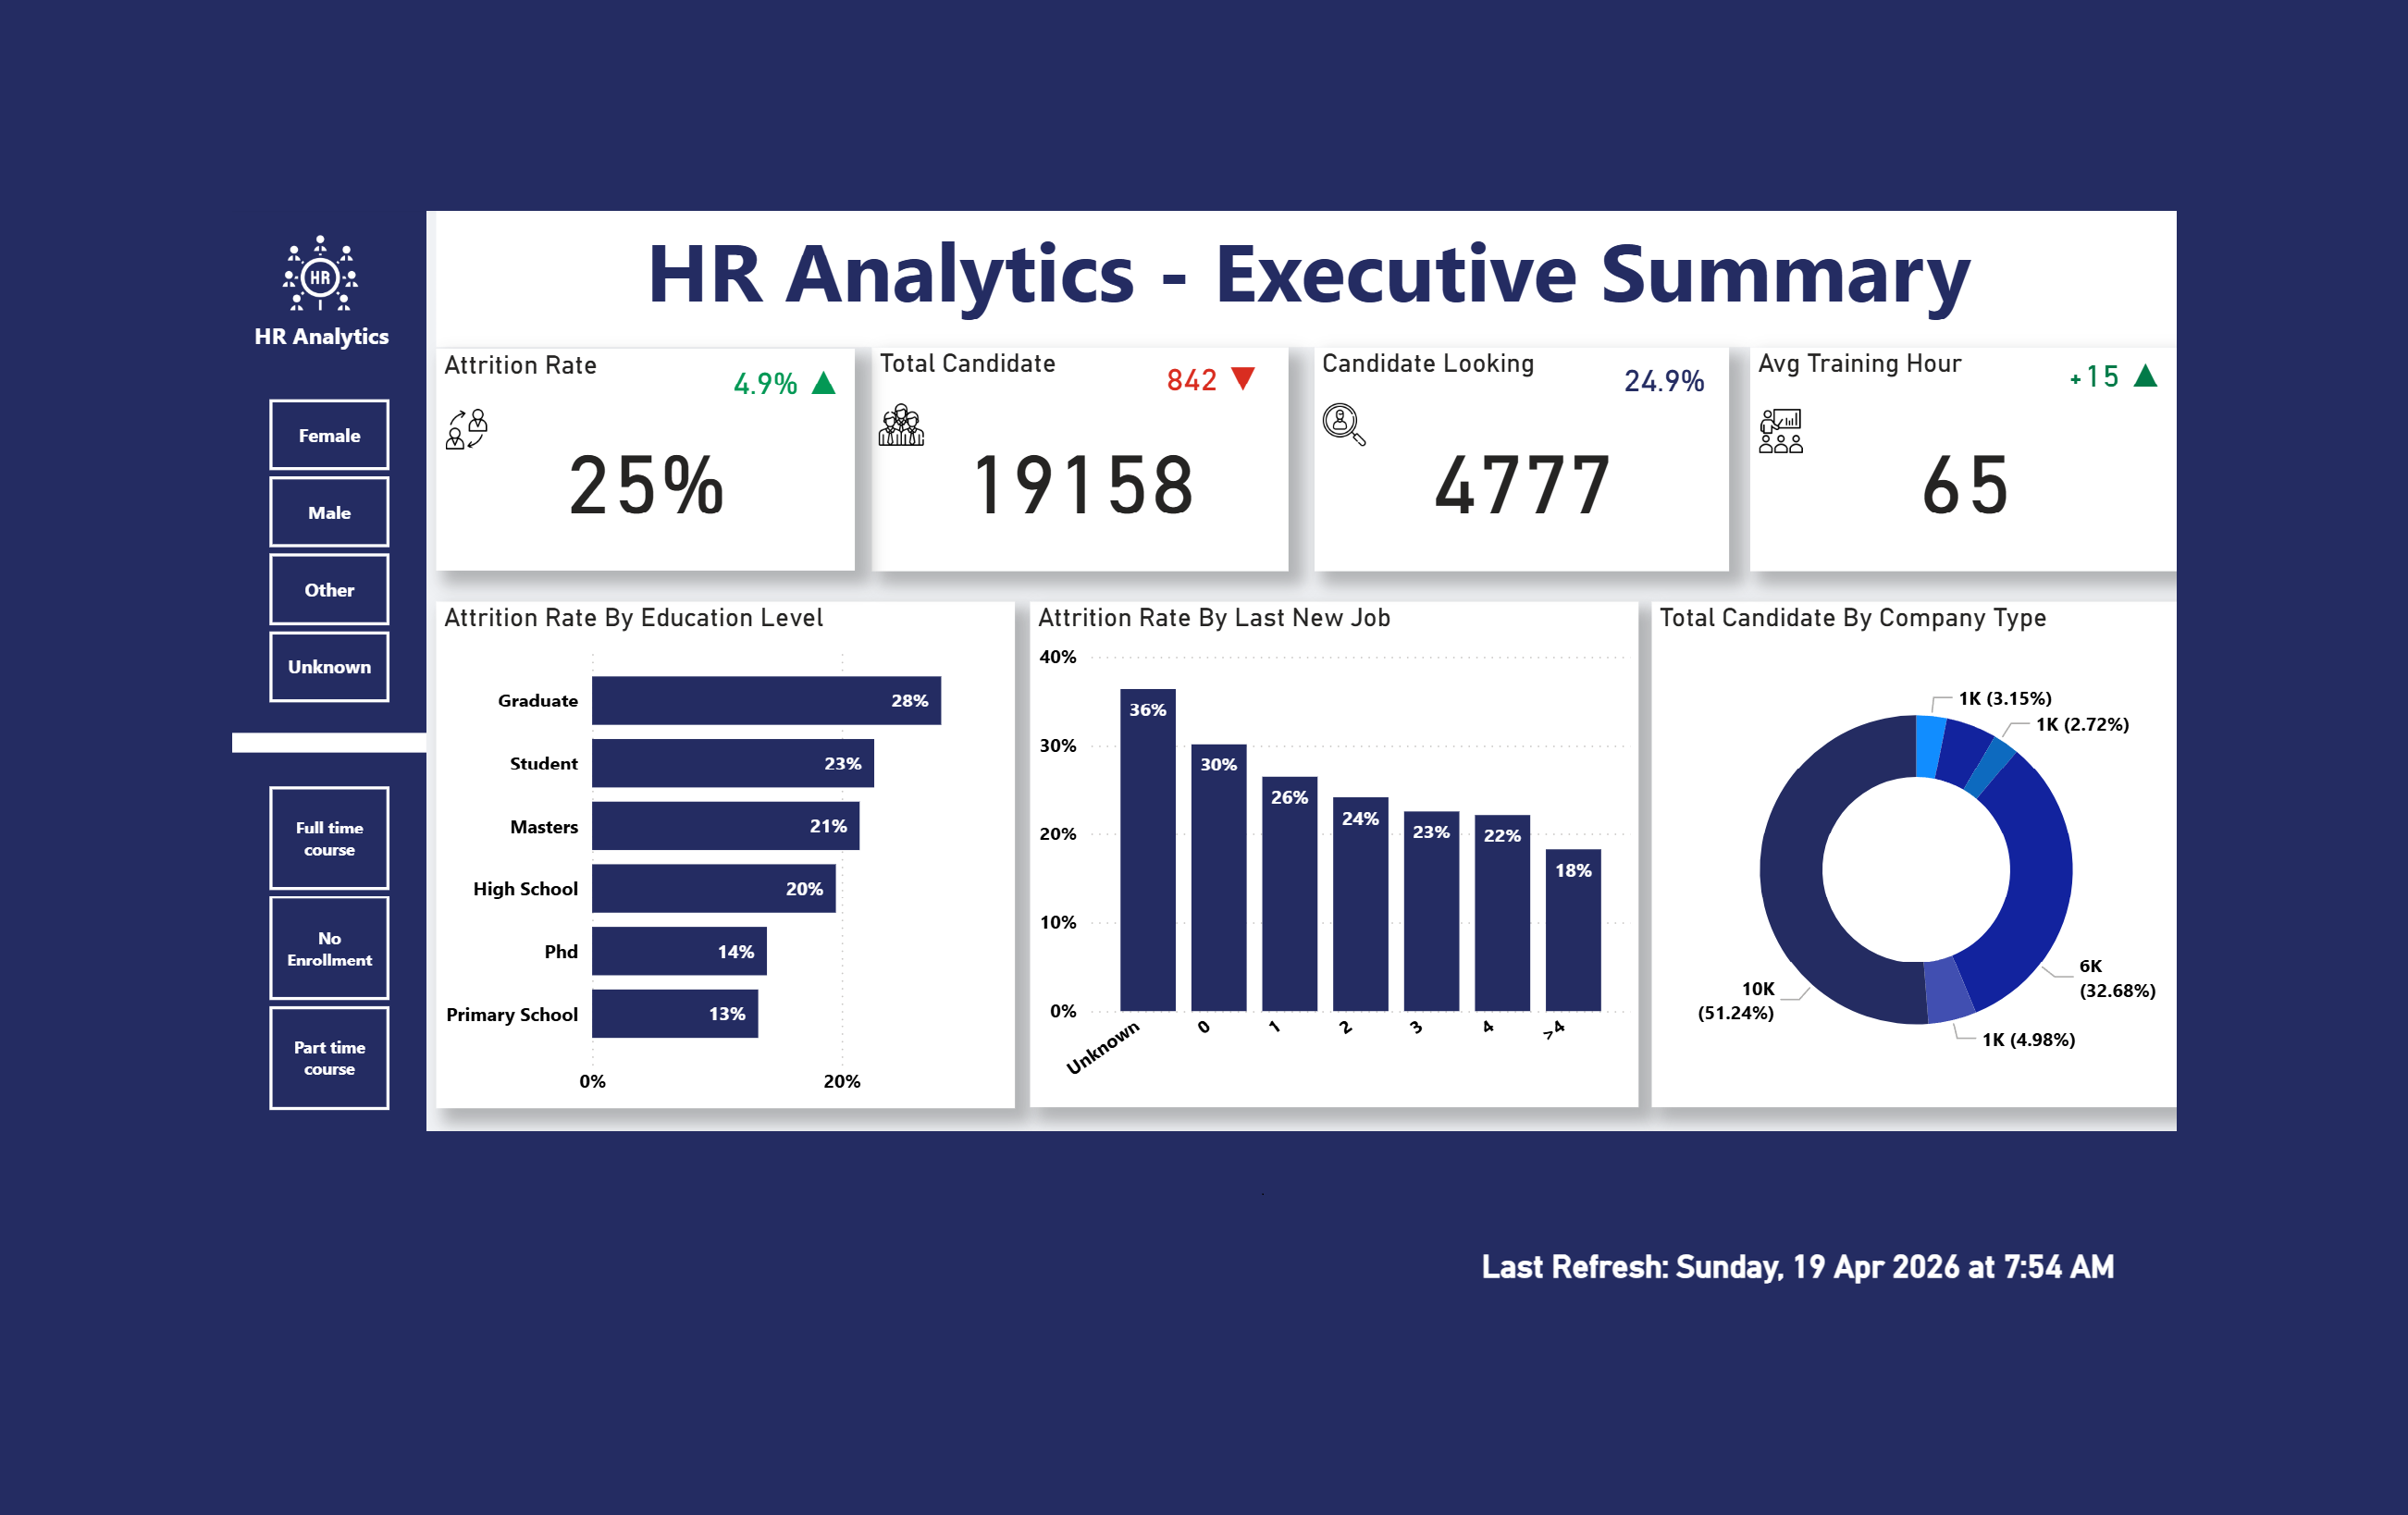

Layout of this report page (visuals, bound fields, positions):
{"tool":"powerbi","page":{"name":"Executive Summary","canvas":[1280,720],"ordinal":1},"visuals":[{"type":"textbox","box":[134.3,0,1133.2,92.9],"z":0},{"type":"textbox","box":[0,69.4,120,30.7],"z":0,"group":"g8"},{"type":"card","title":"Total Candidate","fields":{"Values":["_Measures.Total Candidate"]},"box":[417.6,93.1,270.8,147.2],"z":0,"group":"g1"},{"type":"image","box":[11.7,13.5,94.7,59.5],"z":1000,"group":"g8"},{"type":"card","title":"Candidate Looking ","fields":{"Values":["_Measures.Candidates Looking For Job"]},"box":[704.6,93.1,269.5,147.2],"z":1000,"group":"g5"},{"type":"clusteredBarChart","title":"Attrition Rate By Education Level","fields":{"Y":["_Measures.Attrition Rate %"],"Category":["GOLD Dim_Education.education_level"]},"box":[134.4,260.8,376.2,333.8],"z":1000},{"type":"card","title":"Avg Training Hour","fields":{"Values":["_Measures.Avg Trainning Hour"]},"box":[988.1,93.1,279.2,147.2],"z":2000,"group":"g6"},{"type":"card","title":"Attrition Rate","fields":{"Values":["_Measures.Attrition Rate %"]},"box":[134.4,94,271.8,146.1],"z":2000,"group":"g3"},{"type":"clusteredColumnChart","title":"Attrition Rate By Last New Job","fields":{"Y":["_Measures.Attrition Rate %"],"Category":["GOLD Dim_Candidate.last_new_job"]},"box":[520.6,260.8,395,333.4],"z":2000},{"type":"donutChart","title":"Total Candidate By Company Type","fields":{"Y":["_Measures.Total Candidate"],"Series":["GOLD Dim_Company.company_type"]},"box":[924.3,260.8,343.1,333.4],"z":3000},{"type":"slicer","fields":{"Values":["GOLD Dim_Candidate.gender"]},"box":[416.7,685.1,120.1,34.6],"z":4000},{"type":"shape","box":[0,0.9,128.1,719.1],"z":5000},{"type":"group","id":"g1","title":"Group 1","box":[416.7,93.1,271.7,147.2],"z":6000},{"type":"group","id":"g2","title":"Group 5","box":[134.4,92.9,271.6,147.1],"z":7000},{"type":"card","fields":{"Values":["_Measures.Candidates Trend Label"]},"box":[589.9,93.1,98.5,42.2],"z":8000},{"type":"group","id":"g3","title":"Group 2","box":[134.4,94,271.8,146.1],"z":8000,"group":"g2"},{"type":"group","id":"g4","title":"Group 6","box":[704.6,93.1,269.5,147.2],"z":9000},{"type":"image","box":[704.6,119.7,38.1,48.7],"z":9001,"group":"g5"},{"type":"image","box":[988.1,124.1,39.6,48.7],"z":9003,"group":"g6"},{"type":"group","id":"g5","title":"Group 3","box":[704.6,93.1,269.5,147.2],"z":9005,"group":"g4"},{"type":"group","id":"g6","title":"Group 4","box":[988.1,93.1,279.2,147.2],"z":9006,"group":"g7"},{"type":"card","fields":{"Values":["_Measures.Trend Label"]},"box":[317.1,92.9,89.1,46.1],"z":9007,"group":"g2"},{"type":"card","fields":{"Values":["_Measures.Looking Ratio Label"]},"box":[889.7,94.2,84.4,41.1],"z":9010,"group":"g4"},{"type":"card","fields":{"Values":["_Measures.Training Trend Label"]},"box":[1181.8,94.2,85.5,34.6],"z":9011,"group":"g7"},{"type":"group","id":"g7","title":"Group 7","box":[988.1,93.1,279.2,147.2],"z":10000},{"type":"image","box":[416.7,119.7,39.7,48.7],"z":10000,"group":"g1"},{"type":"image","box":[134.4,122.6,38.8,48.7],"z":10002,"group":"g3"},{"type":"shape","box":[0,609.4,1267.5,110],"z":11000},{"type":"group","id":"g8","title":"Group 8","box":[0,13.5,120,86.6],"z":12000},{"type":"slicer","fields":{"Values":["GOLD Dim_Candidate.gender"]},"box":[0,120,128.1,213.8],"z":13000,"group":"g9"},{"type":"card","fields":{"Values":["Refresh_Time.Live_Refresh_Time"]},"box":[770.8,677.2,496.5,41.4],"z":13000},{"type":"group","id":"g9","title":"Group 9","box":[0,120,128.1,482.7],"z":14000},{"type":"slicer","fields":{"Values":["GOLD Dim_Education.enrolled_university"]},"box":[0,375.3,128.1,227.4],"z":14000,"group":"g9"},{"type":"shape","box":[0,347.4,128.1,12.6],"z":15000,"group":"g9"}]}

Visuals, with their boxes on the page's 1280x720 design canvas (x1, y1, x2, y2). These are canvas units, not pixel positions in the 2408x1515 screenshot, which may show the page scaled, cropped or inside an application window:
textbox: rect(134, 0, 1268, 93)
textbox: rect(0, 69, 120, 100)
"Total Candidate" card: rect(418, 93, 688, 240)
image: rect(12, 14, 106, 73)
"Candidate Looking " card: rect(705, 93, 974, 240)
"Attrition Rate By Education Level" clusteredBarChart: rect(134, 261, 511, 595)
"Avg Training Hour" card: rect(988, 93, 1267, 240)
"Attrition Rate" card: rect(134, 94, 406, 240)
"Attrition Rate By Last New Job" clusteredColumnChart: rect(521, 261, 916, 594)
"Total Candidate By Company Type" donutChart: rect(924, 261, 1267, 594)
slicer - GOLD Dim_Candidate.gender: rect(417, 685, 537, 720)
shape: rect(0, 1, 128, 720)
"Group 1" group: rect(417, 93, 688, 240)
"Group 5" group: rect(134, 93, 406, 240)
card - _Measures.Candidates Trend Label: rect(590, 93, 688, 135)
"Group 2" group: rect(134, 94, 406, 240)
"Group 6" group: rect(705, 93, 974, 240)
image: rect(705, 120, 743, 168)
image: rect(988, 124, 1028, 173)
"Group 3" group: rect(705, 93, 974, 240)
"Group 4" group: rect(988, 93, 1267, 240)
card - _Measures.Trend Label: rect(317, 93, 406, 139)
card - _Measures.Looking Ratio Label: rect(890, 94, 974, 135)
card - _Measures.Training Trend Label: rect(1182, 94, 1267, 129)
"Group 7" group: rect(988, 93, 1267, 240)
image: rect(417, 120, 456, 168)
image: rect(134, 123, 173, 171)
shape: rect(0, 609, 1268, 719)
"Group 8" group: rect(0, 14, 120, 100)
slicer - GOLD Dim_Candidate.gender: rect(0, 120, 128, 334)
card - Refresh_Time.Live_Refresh_Time: rect(771, 677, 1267, 719)
"Group 9" group: rect(0, 120, 128, 603)
slicer - GOLD Dim_Education.enrolled_university: rect(0, 375, 128, 603)
shape: rect(0, 347, 128, 360)
